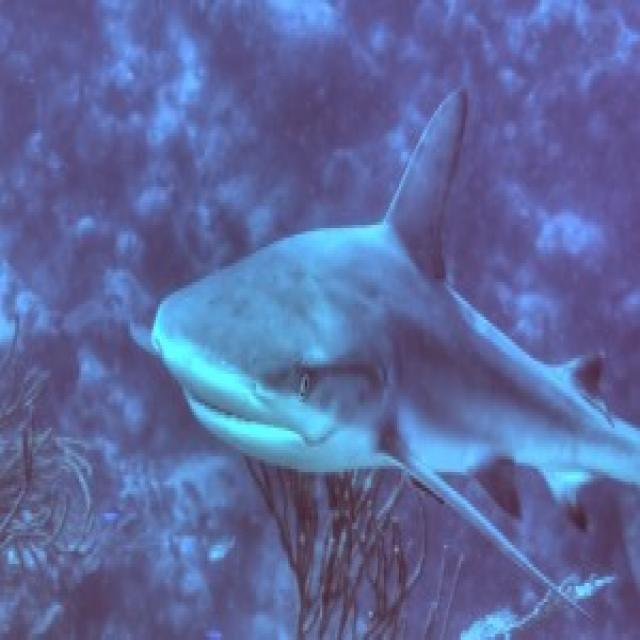Shark: (141, 86, 640, 538)
